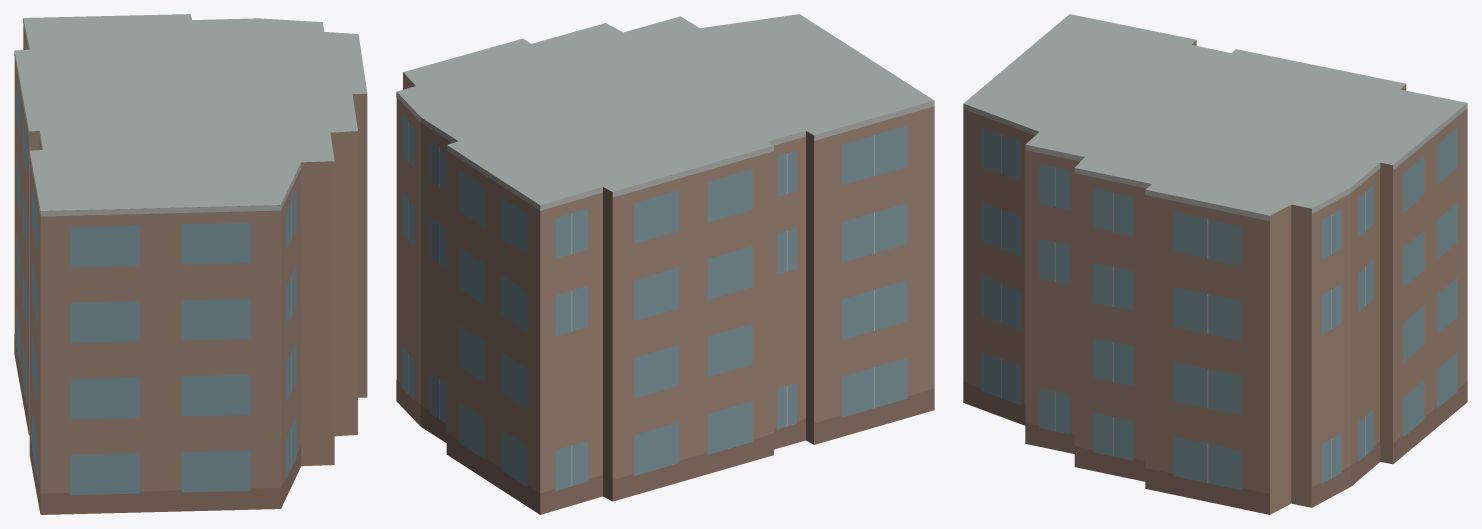
File: survey-upis-33042636.glb
3 views of the same model, side by side, from view 1: azimuth 30°, elevation 25°; view 2: azimuth 150°, elevation 25°; view 3: azimuth 270°, elevation 25° (orthographic). The views are drawn at different scales.
Visible parts, largest first — view 1: survey-upis-33042636.tmp; view 2: survey-upis-33042636.tmp; view 3: survey-upis-33042636.tmp.
Boxes of the visible parts, bbox=[...] form: survey-upis-33042636.tmp: bbox=[14, 14, 367, 514]; survey-upis-33042636.tmp: bbox=[396, 14, 934, 514]; survey-upis-33042636.tmp: bbox=[963, 14, 1467, 514].
Bounding box in the file's own units: 19.46 × 13.45 × 20.56.
